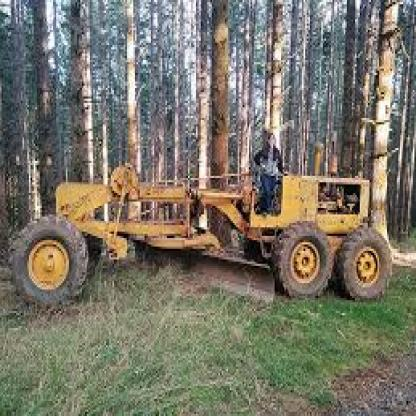bull_dozer/loader/grader: (21, 109, 414, 324)
